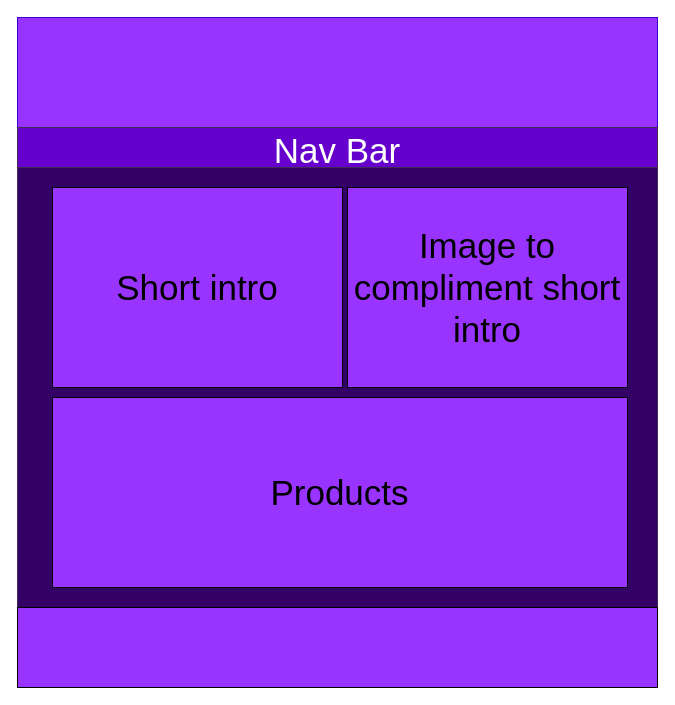
Some shapes in this 675 by 705 pixel diagram are drawn without their labels. Each missing label, with the box of its shape:
Footer {Site Map, Links etc}: (16, 606, 658, 688)
Title {HOME}: (16, 16, 658, 128)
